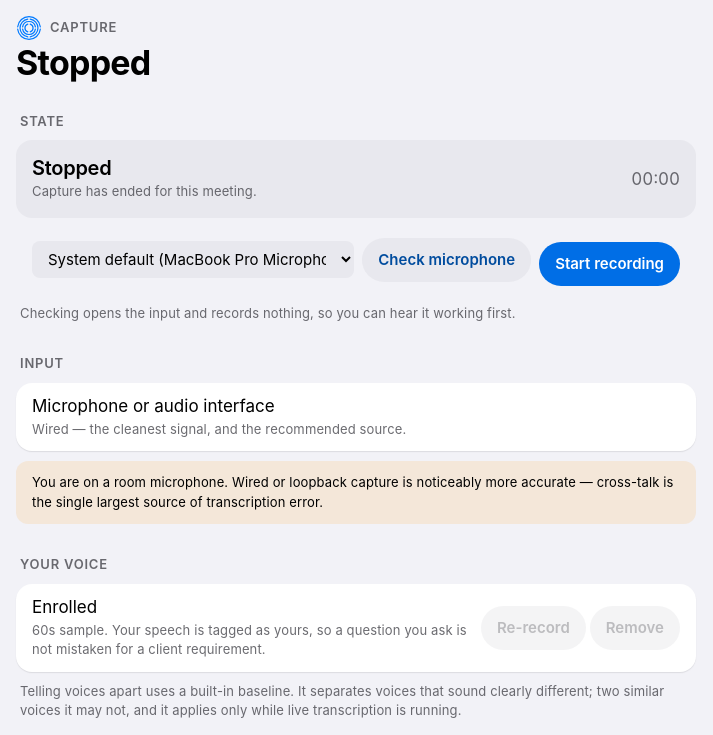
Scenario: choosing which input records › does not warn when the picked device keeps speakers separable
The image size is (713, 735).
Select "Scarlett 2i2 USB" in the dropdown named "which device to record from" at point(193, 260), box [32, 241, 354, 278]
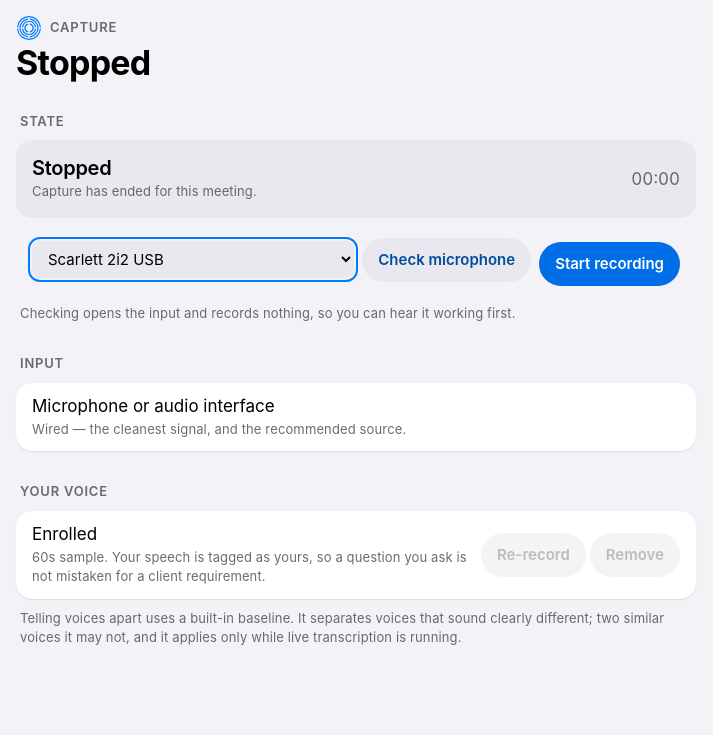
Check: the text "You are on a room microphone" is gone
